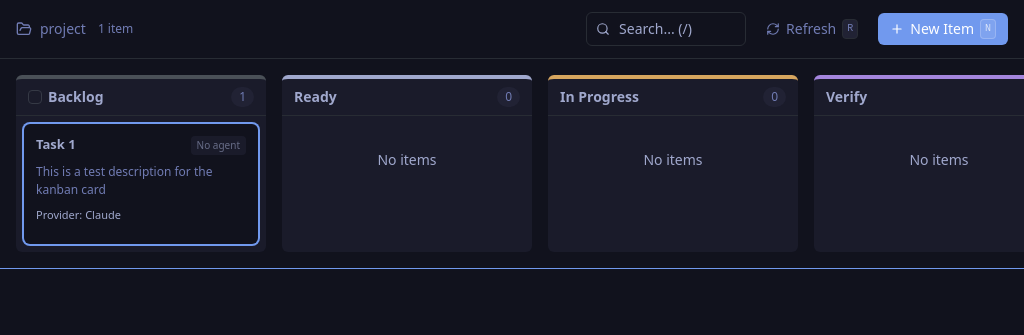
Test: KanbanView › should display <kbd>Esc</kbd> badge on the clear selection button when items are selected
The image size is (1024, 335).
Note: Ctrl+click to select an item
Click the button with test id "kanban-card" at (141, 184), box [24, 124, 258, 244]
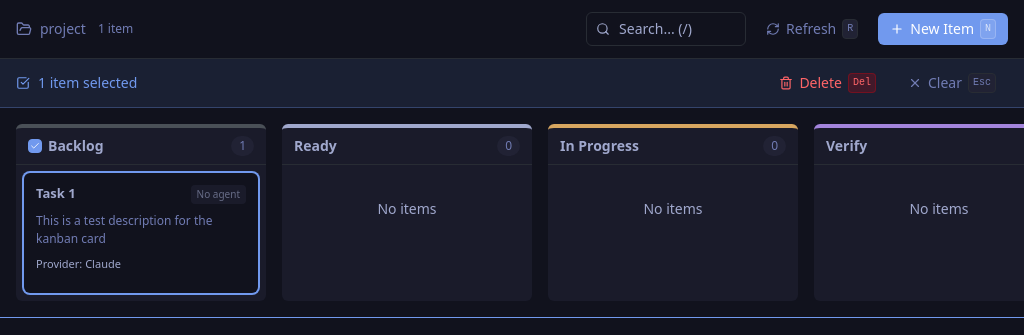
Expected: the element with test id "bulk-action-bar" is shown, [0, 59, 1023, 108]
Expected: the text "Esc" is shown, [968, 73, 996, 93]
